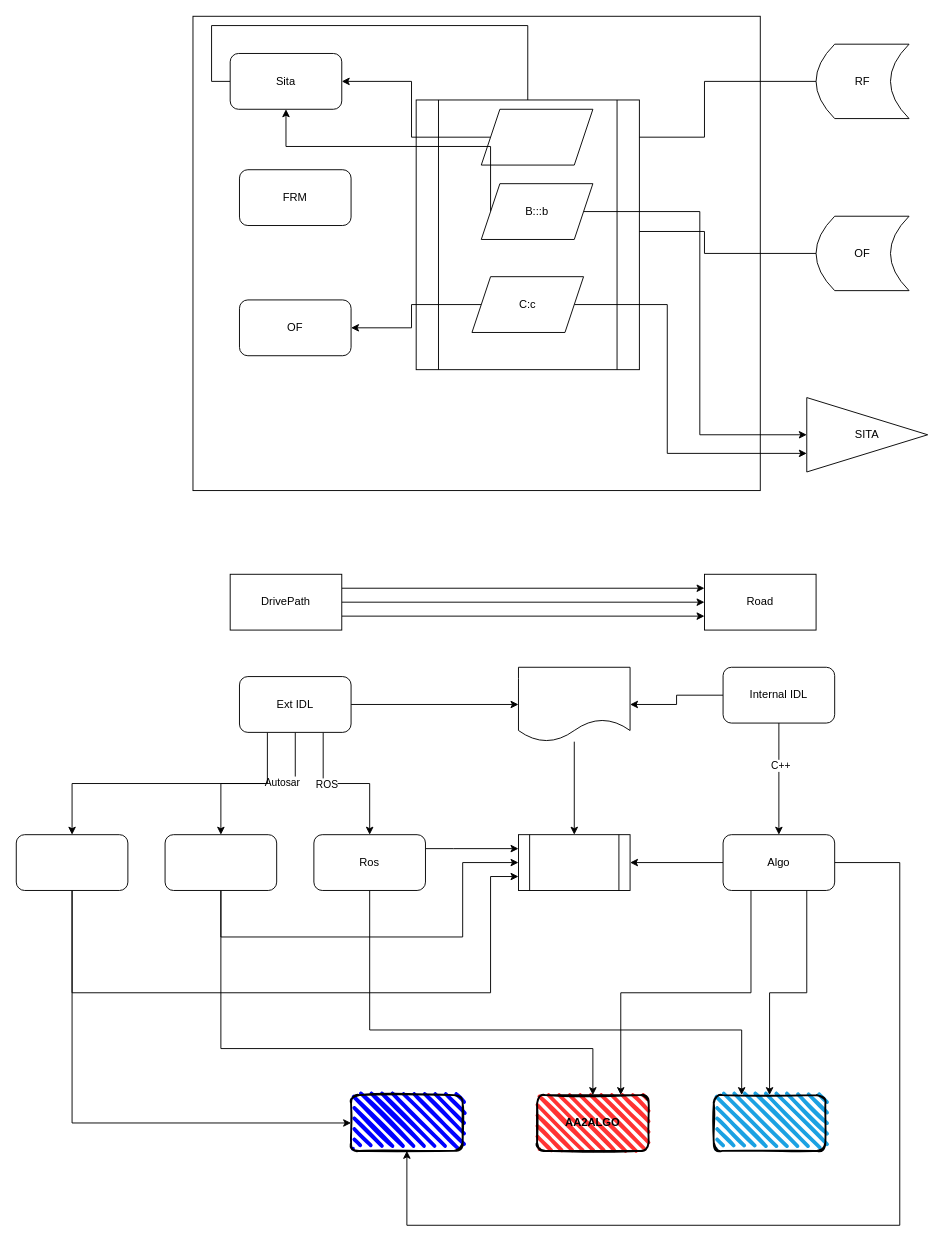
This 944x1249 diagram has some shape labels left out. Each missing label, with the centre of its shape:
"AA" goes at point (220, 862).
"Converter" goes at point (574, 862).
"DDS" goes at point (71, 862).
"DDS2ALGO" goes at point (406, 1122).
"Json mapping" goes at point (574, 704).
"ObjectInfo" goes at point (536, 136).
"ROS2ALGO" goes at point (769, 1122).
